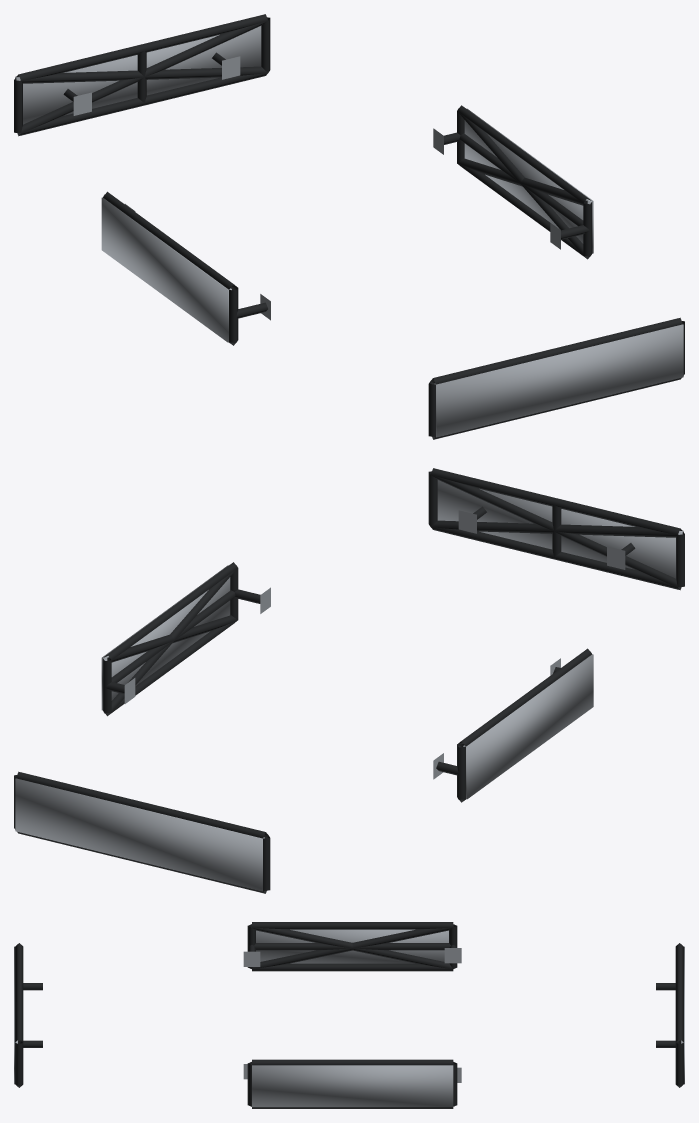
The model's file is whitlock_campestre_protecao.glb.
3 views of the same model, one above another, from view 1: azimuth 30°, elevation 25°; view 2: azimuth 150°, elevation 25°; view 3: azimuth 270°, elevation 25° (orthographic). The views are drawn at different scales.
Visible parts, largest first — view 1: Protection_front_Level3_Details, Protection_left_Level3_Details, Protection_rear_Level1_Details, Protection_rear_Level3_Details, Protection_rear_Level2_Details, Protection_right_Level1_Details, Protection_right_Level2_Details, Protection_front_Level1_Details, Protection_right_Level3_Details, Protection_left_Level1_Details; view 2: Protection_rear_Level3_Details, Protection_left_Level3_Details, Protection_front_Level1_Details, Protection_front_Level3_Details, Protection_front_Level2_Details, Protection_right_Level1_Details, Protection_right_Level2_Details, Protection_rear_Level1_Details, Protection_right_Level3_Details, Protection_left_Level1_Details; view 3: Protection_right_Level3_Details, Protection_left_Level1_Details, Protection_left_Level2_Details, Protection_left_Level3_Details, Protection_right_Level1_Details, Protection_rear_Level1_Details, Protection_front_Level1_Details.
Boxes of the visible parts, x1,y1,x2,y2 form: Protection_front_Level3_Details: [434, 324, 683, 437]; Protection_left_Level3_Details: [101, 197, 231, 342]; Protection_rear_Level1_Details: [14, 14, 270, 136]; Protection_rear_Level3_Details: [15, 26, 261, 124]; Protection_rear_Level2_Details: [16, 21, 267, 135]; Protection_right_Level1_Details: [433, 105, 592, 259]; Protection_right_Level2_Details: [457, 111, 591, 258]; Protection_front_Level1_Details: [428, 317, 684, 439]; Protection_right_Level3_Details: [464, 108, 593, 253]; Protection_left_Level1_Details: [103, 191, 270, 345]; Protection_rear_Level3_Details: [15, 778, 264, 891]; Protection_left_Level3_Details: [463, 654, 593, 799]; Protection_front_Level1_Details: [428, 468, 684, 590]; Protection_front_Level3_Details: [437, 480, 683, 578]; Protection_front_Level2_Details: [431, 475, 682, 589]; Protection_right_Level1_Details: [102, 562, 270, 716]; Protection_right_Level2_Details: [103, 568, 237, 715]; Protection_rear_Level1_Details: [14, 771, 270, 893]; Protection_right_Level3_Details: [101, 565, 230, 710]; Protection_left_Level1_Details: [433, 648, 591, 802]; Protection_right_Level3_Details: [252, 1065, 453, 1107]; Protection_left_Level1_Details: [243, 922, 461, 971]; Protection_left_Level2_Details: [251, 925, 453, 969]; Protection_left_Level3_Details: [256, 929, 448, 963]; Protection_right_Level1_Details: [243, 1059, 461, 1108]; Protection_rear_Level1_Details: [656, 943, 683, 1087]; Protection_front_Level1_Details: [15, 943, 42, 1087].
Bounding box in the file's own units: 2.19 × 0.354 × 4.37.
1 material, 1 textured.
